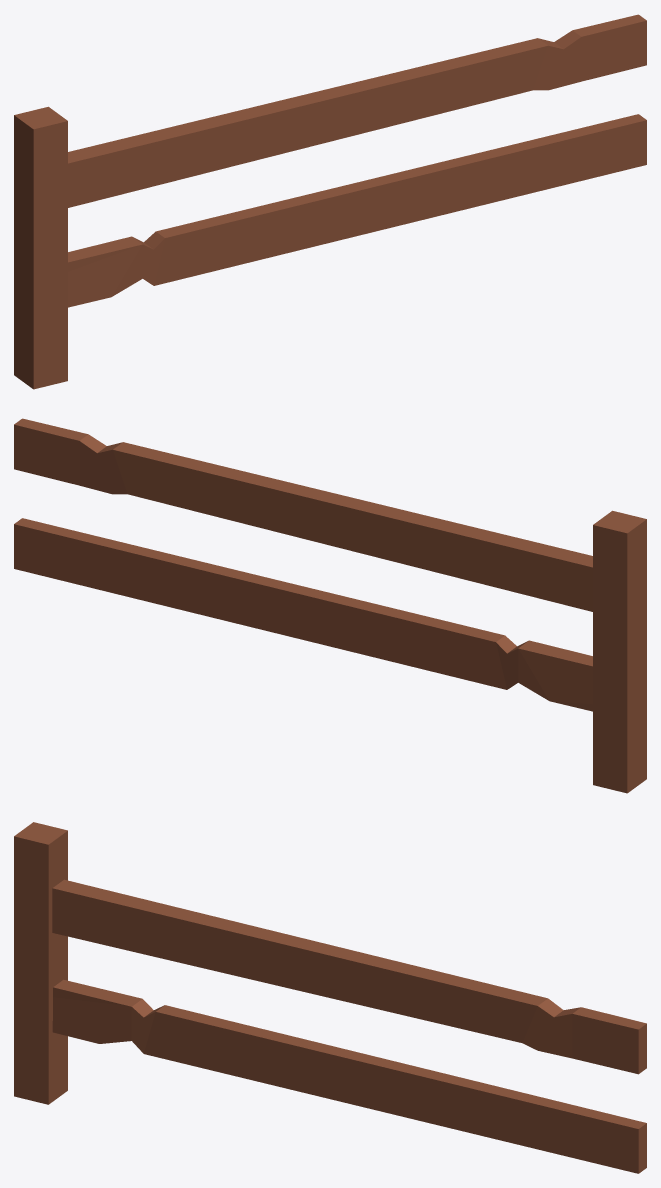
File: fence.1.close.R.glb
The picture shows the model from 3 angles, top to bottom: view 1: azimuth 30°, elevation 25°; view 2: azimuth 150°, elevation 25°; view 3: azimuth 330°, elevation 25°; orthographic projection.
Visible parts, largest first — view 1: fence.1.close.R; view 2: fence.1.close.R; view 3: fence.1.close.R.
Boxes of the visible parts, bbox=[...] form: fence.1.close.R: bbox=[14, 14, 646, 389]; fence.1.close.R: bbox=[14, 418, 646, 793]; fence.1.close.R: bbox=[14, 822, 646, 1173].
Size of the model in its own units: 3.03 by 1.21 by 0.1655.
